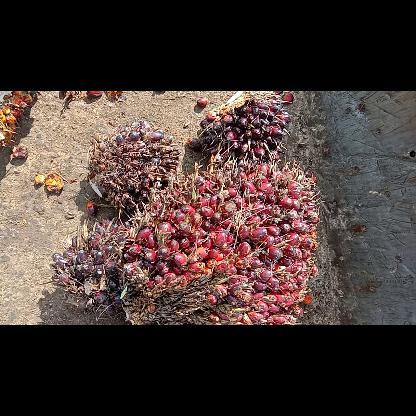TBS abnormal: (86, 120, 180, 212), (190, 90, 288, 166), (49, 218, 129, 308)
TBS masak: (121, 159, 318, 323)
